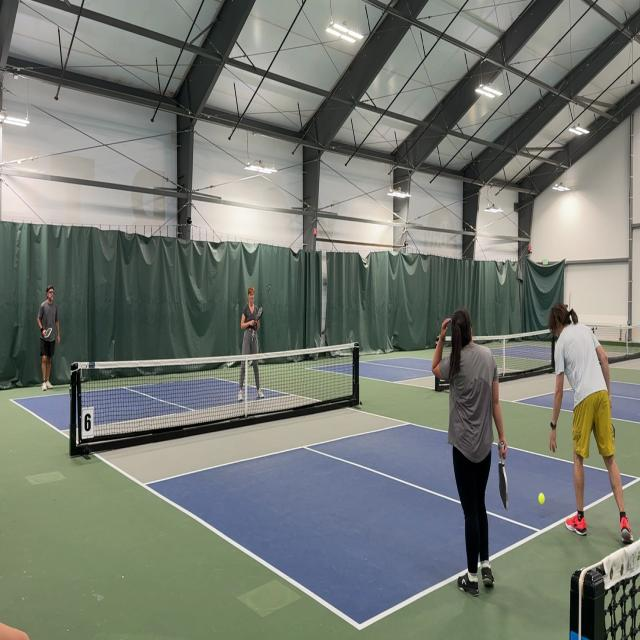ball: (538, 492, 546, 506)
